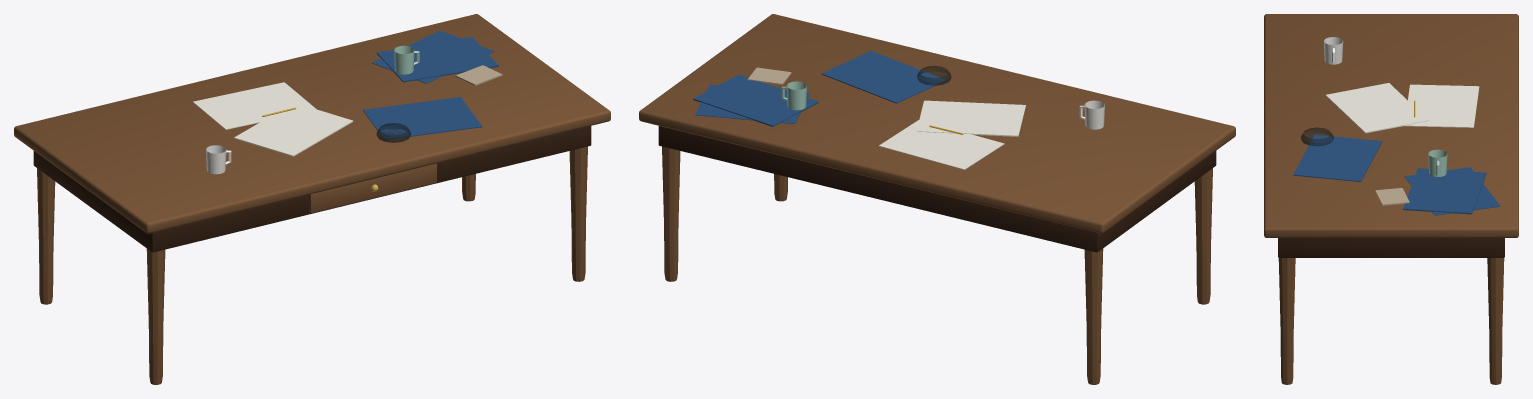
File: mae_briefing_table.glb
3 views of the same model, side by side, from view 1: azimuth 30°, elevation 25°; view 2: azimuth 150°, elevation 25°; view 3: azimuth 270°, elevation 25° (orthographic). The views are drawn at different scales.
Visible parts, largest first — view 1: mae_briefing_table, Drawer; view 2: mae_briefing_table; view 3: mae_briefing_table.
Boxes of the visible parts, bbox=[...] form: mae_briefing_table: bbox=[14, 14, 610, 384]; Drawer: bbox=[309, 163, 436, 213]; mae_briefing_table: bbox=[639, 14, 1235, 384]; mae_briefing_table: bbox=[1264, 14, 1518, 384].
Bounding box in the file's own units: 2.2 × 0.88 × 1.1.
